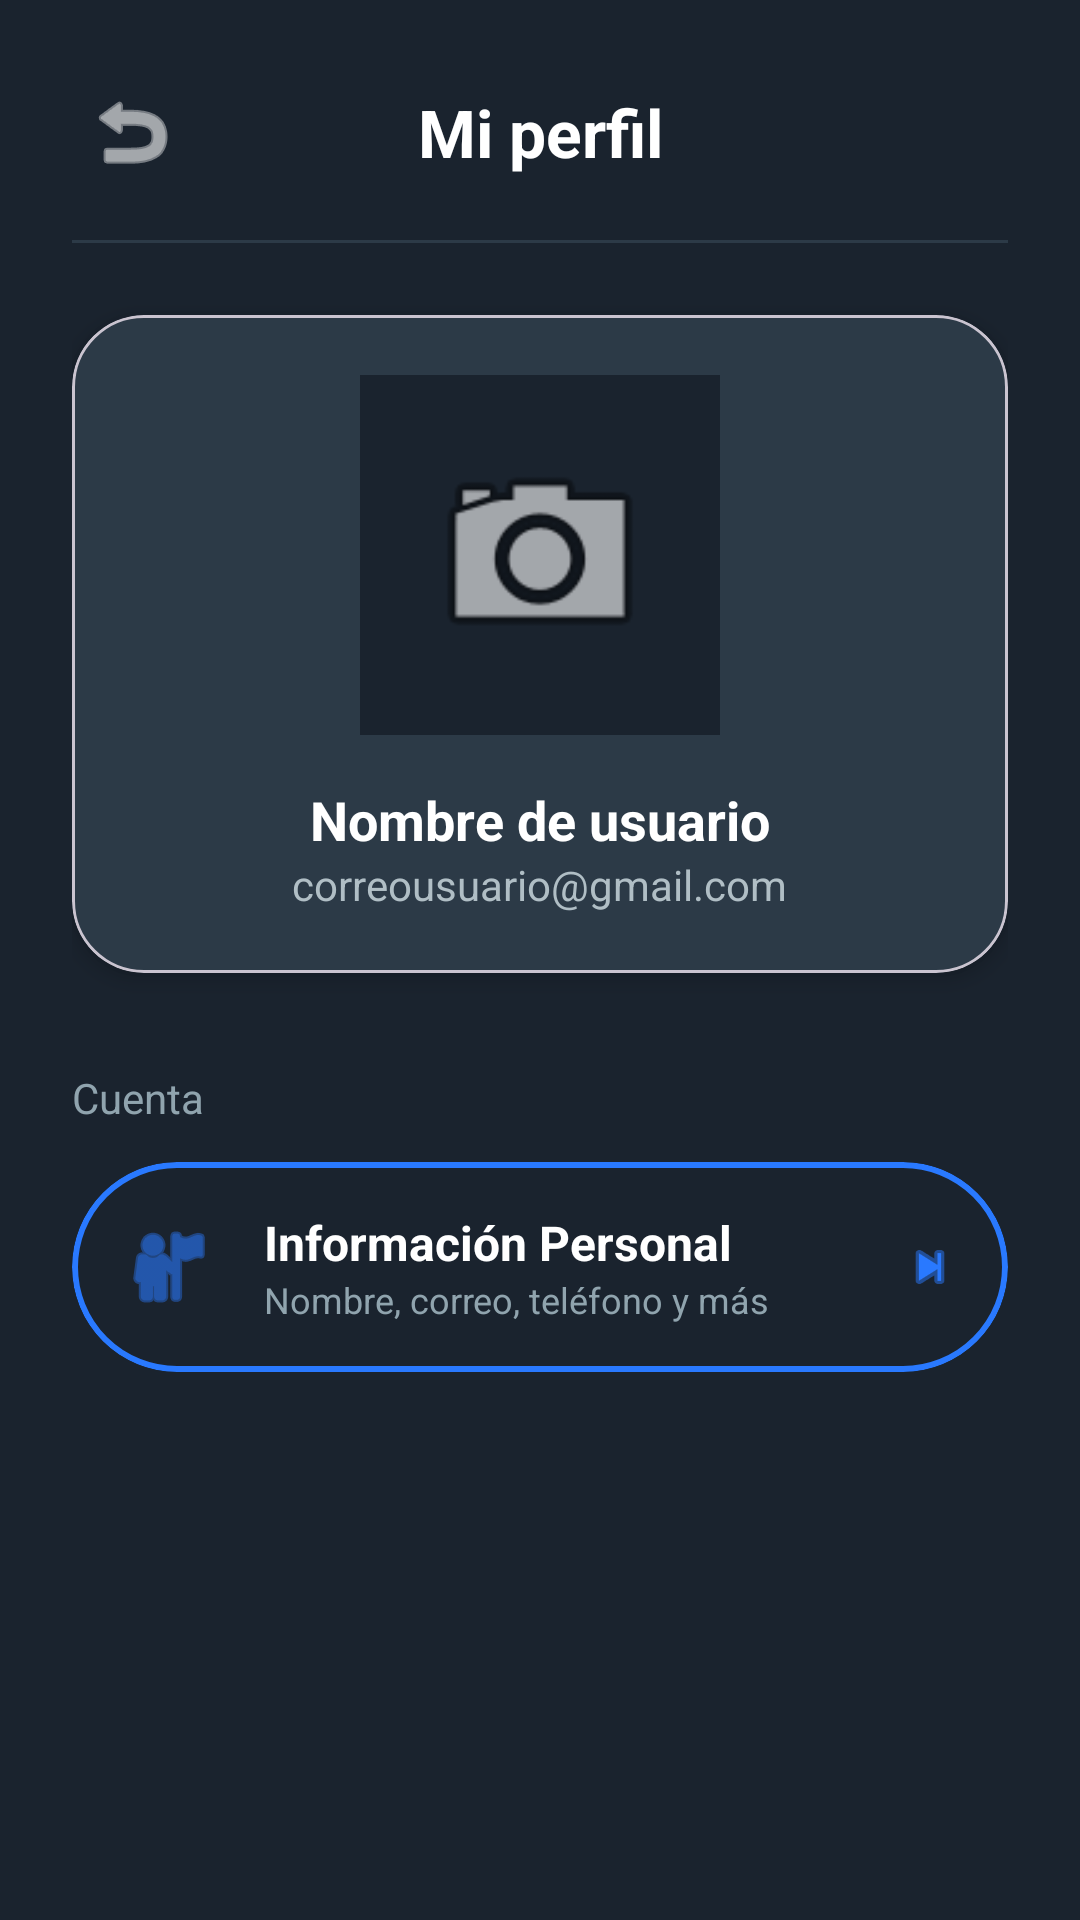

Named icons in this screenshot (1080px×1920px) and their centers, (x=x, y=y):
Foto de perfil: (x=540, y=555)
Ir a Información personal: (x=930, y=1267)
Volver: (x=133, y=132)
